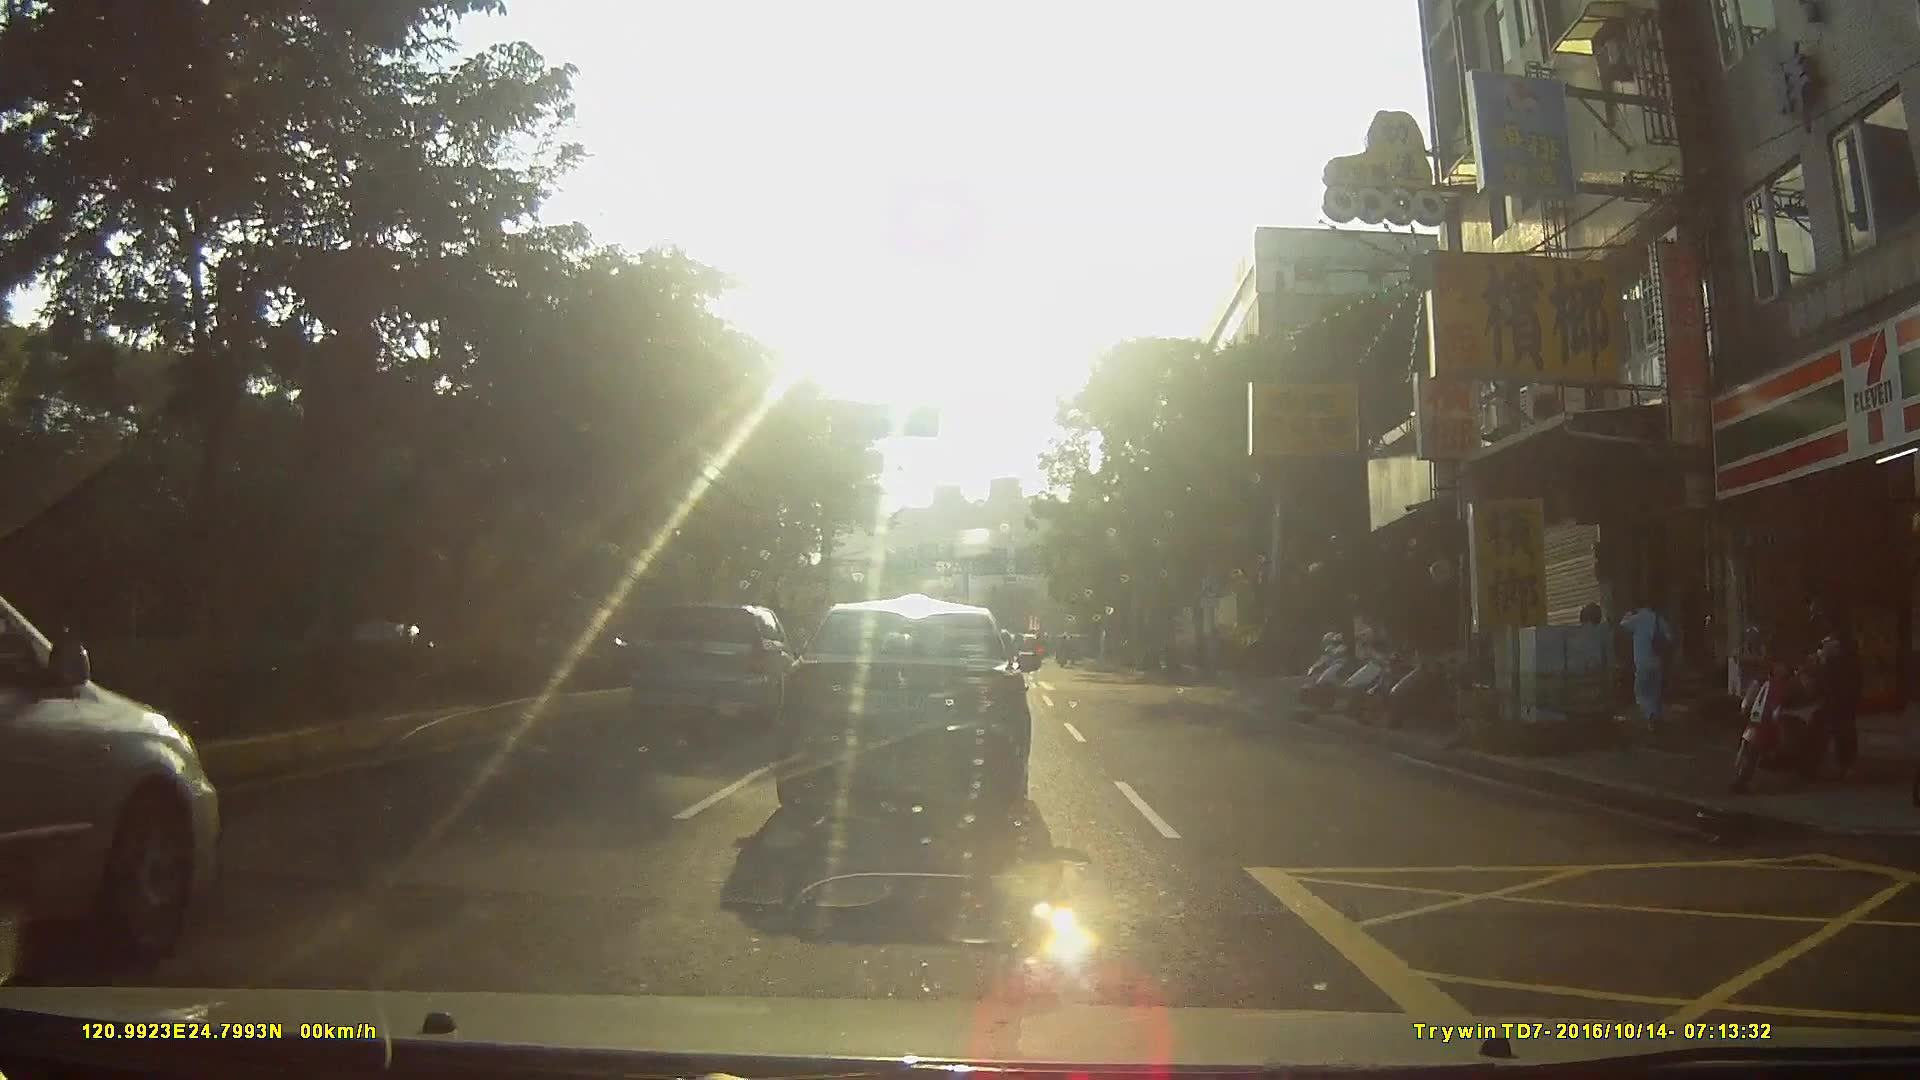pedestrian: (1807, 611, 1871, 785), (1621, 588, 1684, 736)
vehicle: (1, 575, 224, 985), (783, 590, 1060, 832), (638, 601, 803, 728)
